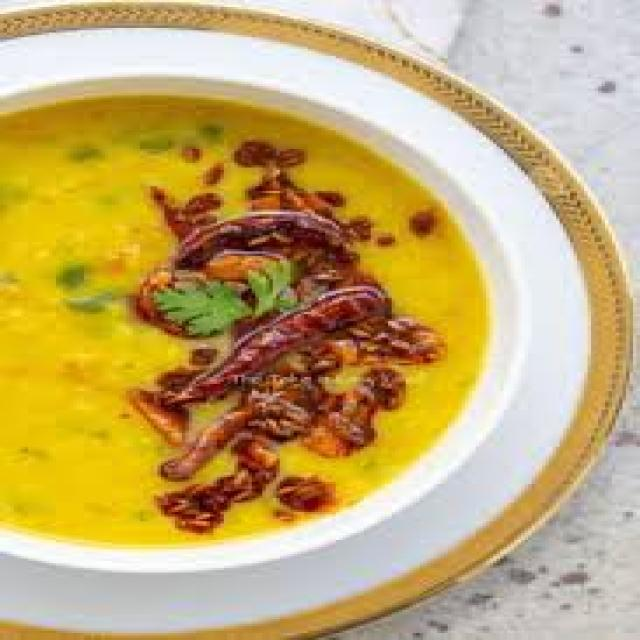dal: (4, 109, 407, 535)
